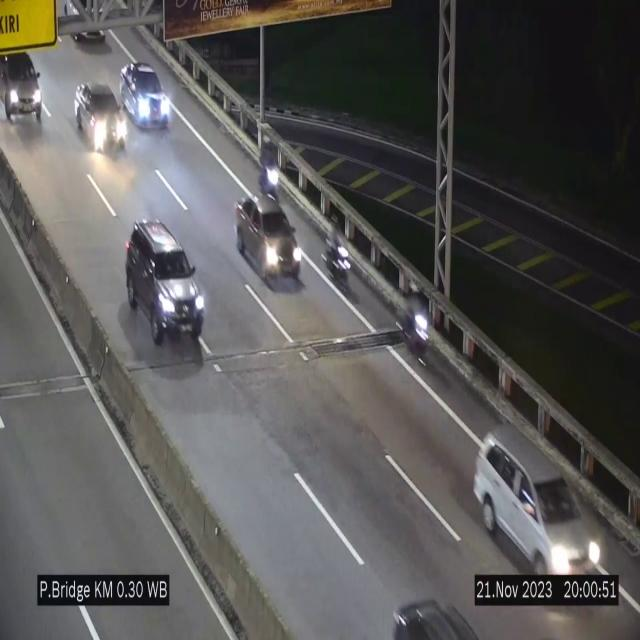Car: (475, 430, 607, 577), (126, 221, 206, 352), (236, 195, 308, 292), (79, 76, 131, 164), (384, 600, 496, 640), (0, 41, 49, 123), (120, 62, 172, 126)
Motorcycle: (400, 277, 438, 375), (316, 204, 352, 300), (256, 128, 290, 206)
